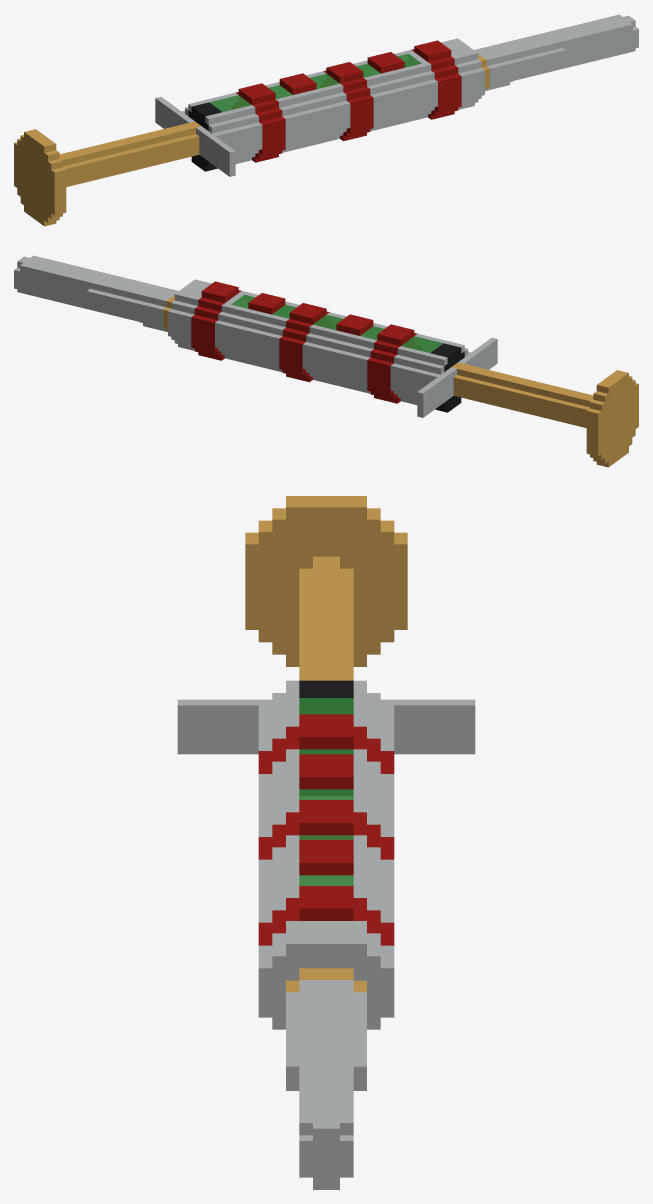
File: biomancer_booster_2.glb
3 views of the same model, one above another, from view 1: azimuth 30°, elevation 25°; view 2: azimuth 150°, elevation 25°; view 3: azimuth 270°, elevation 25° (orthographic). The views are drawn at different scales.
Parts seen in each view (by area): view 1: biomancer_booster_2:compound; view 2: biomancer_booster_2:compound; view 3: biomancer_booster_2:compound.
Boxes of the visible parts, x1,y1,x2,y2 form: biomancer_booster_2:compound: [14, 14, 638, 226]; biomancer_booster_2:compound: [14, 255, 638, 467]; biomancer_booster_2:compound: [177, 496, 475, 1189].
Bounding box in the file's own units: 0.204 × 0.026 × 0.044.
